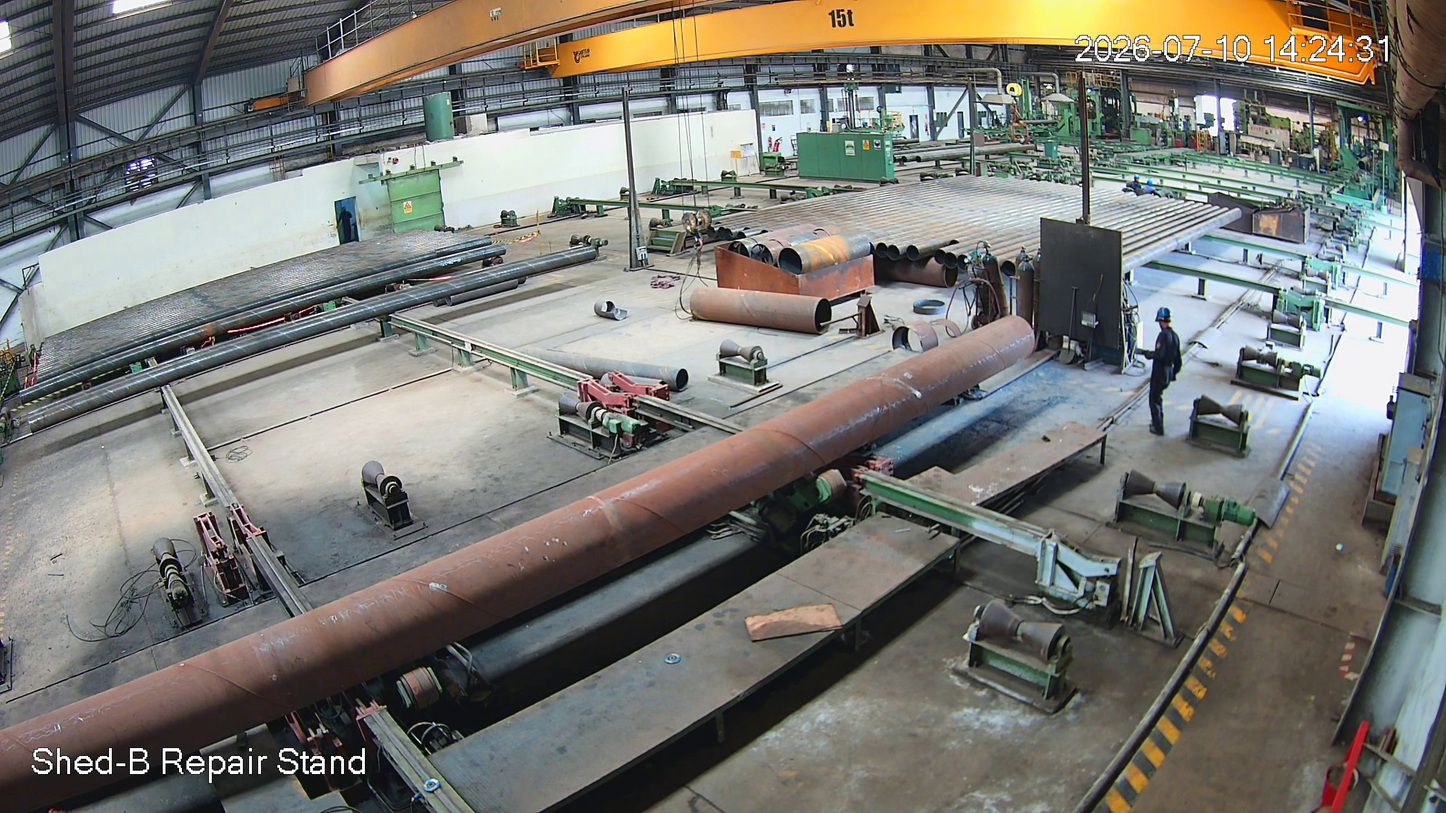Helmet: (1156, 303, 1175, 330)
Person: (1150, 306, 1183, 435)
